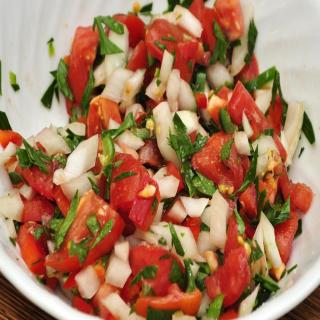tomato: (44, 189, 123, 272), (110, 152, 161, 235), (190, 132, 250, 193), (146, 18, 199, 84), (184, 0, 244, 55), (64, 25, 102, 106), (12, 164, 72, 214), (127, 245, 174, 307), (224, 78, 270, 140), (212, 238, 252, 305), (87, 94, 123, 166), (134, 282, 202, 318), (14, 223, 48, 284), (104, 10, 148, 48), (270, 209, 298, 264), (139, 138, 163, 168), (124, 41, 148, 68)
